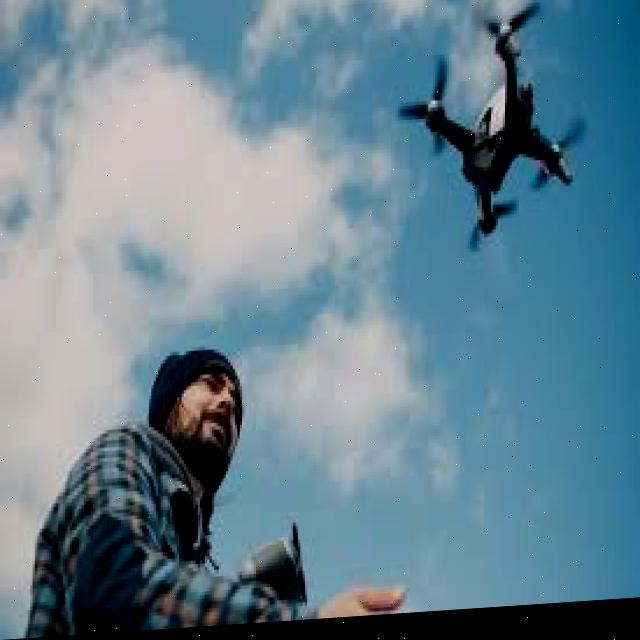drone: (402, 12, 598, 262)
